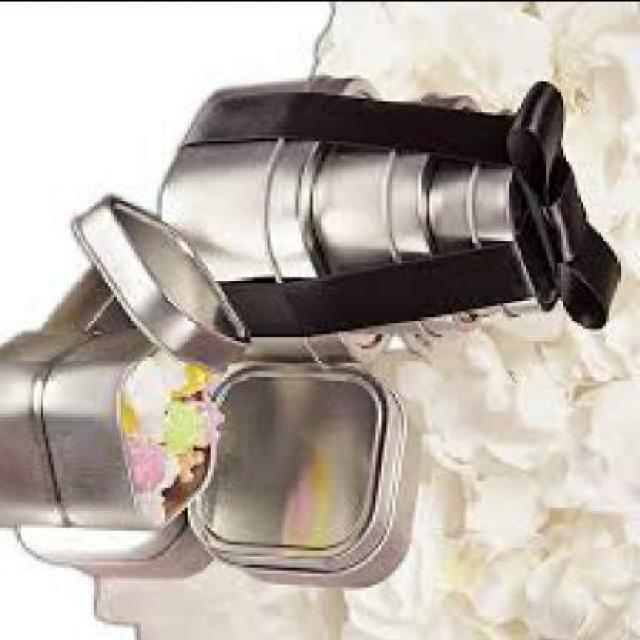BIODEGRADABLE: (128, 356, 222, 510)
METAL: (156, 74, 390, 360), (188, 362, 424, 580), (316, 91, 487, 332), (40, 327, 215, 527), (62, 194, 253, 372), (430, 108, 565, 318)
